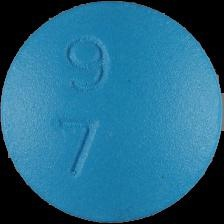0093-0711: (0, 0, 224, 224)
